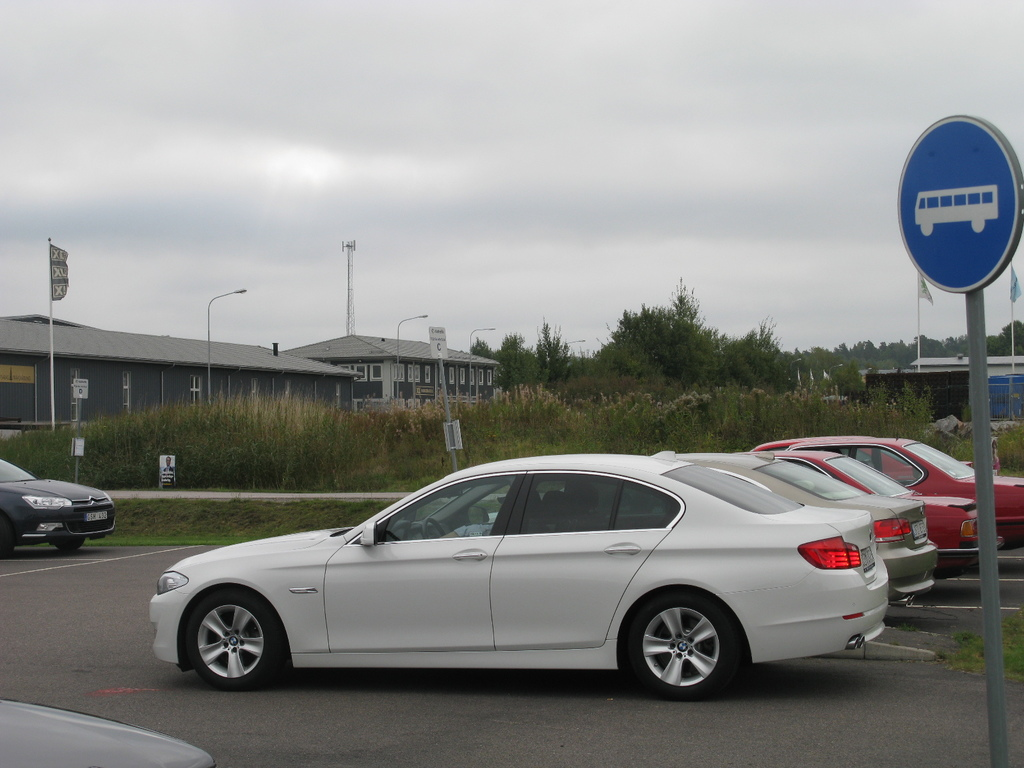Car: (149, 451, 889, 702), (466, 451, 942, 612), (754, 447, 1006, 579), (784, 436, 1023, 555), (0, 698, 218, 767), (0, 458, 115, 561), (748, 435, 974, 486)
